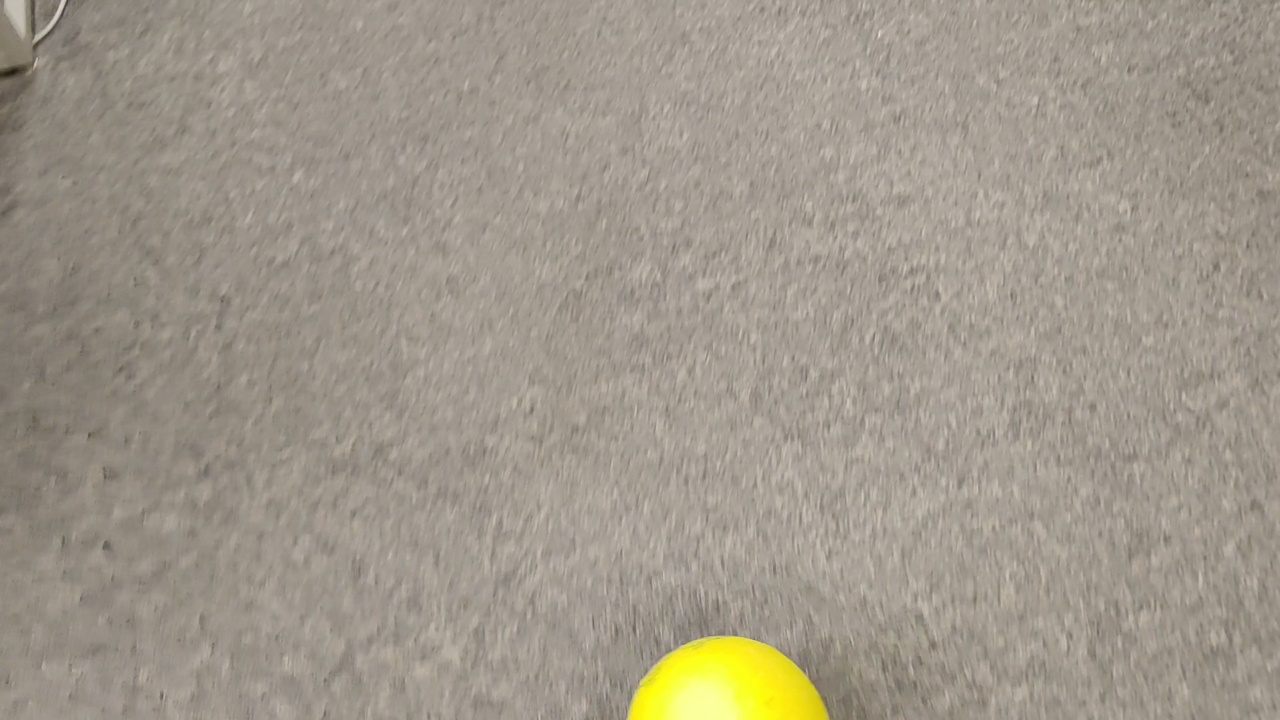Ball: (627, 636, 830, 718)
